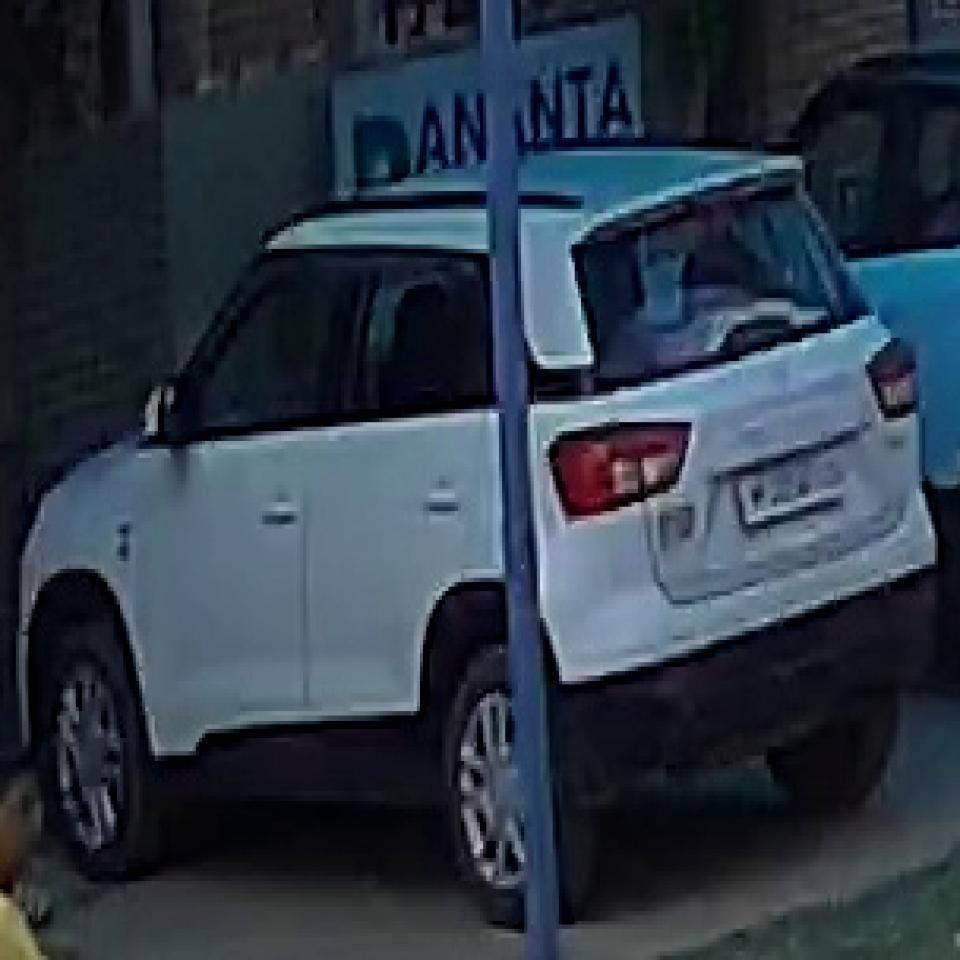tail_light: (547, 420, 692, 517), (874, 338, 922, 420)
